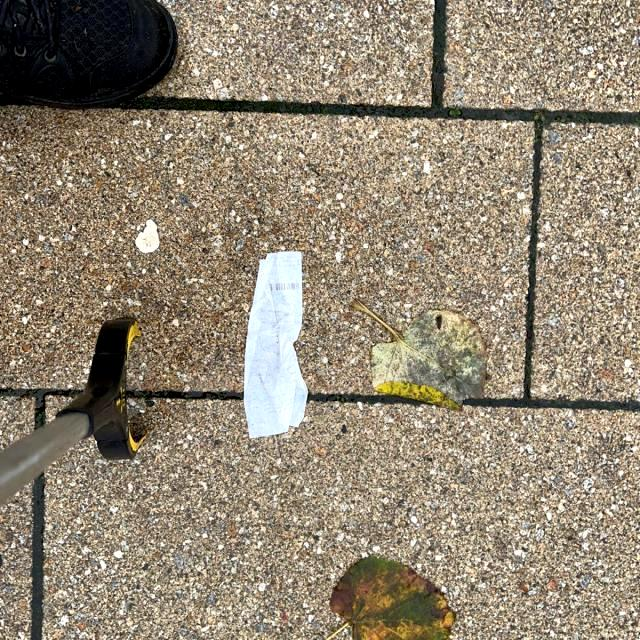Paper: (242, 248, 312, 446)
